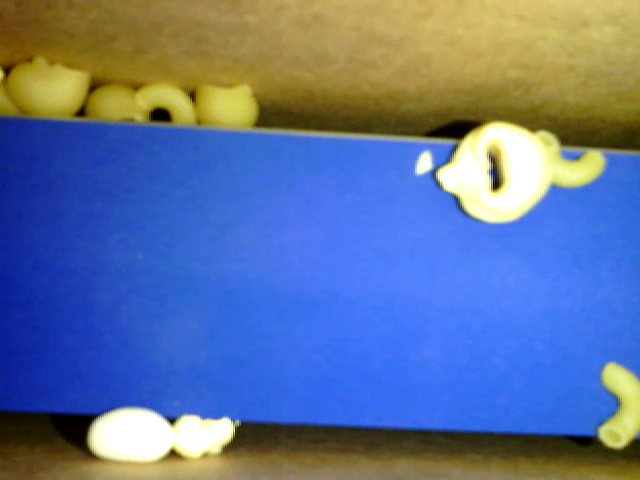elbow: (530, 130, 609, 187), (598, 359, 639, 450), (136, 79, 198, 125)
shell: (5, 54, 90, 118), (192, 79, 257, 126), (86, 83, 150, 123)
tortellini: (435, 121, 549, 223)
